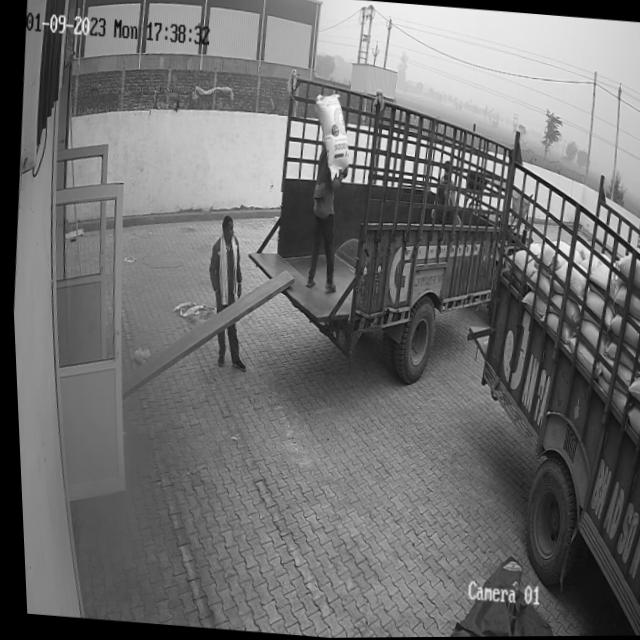sack: (305, 92, 354, 183)
